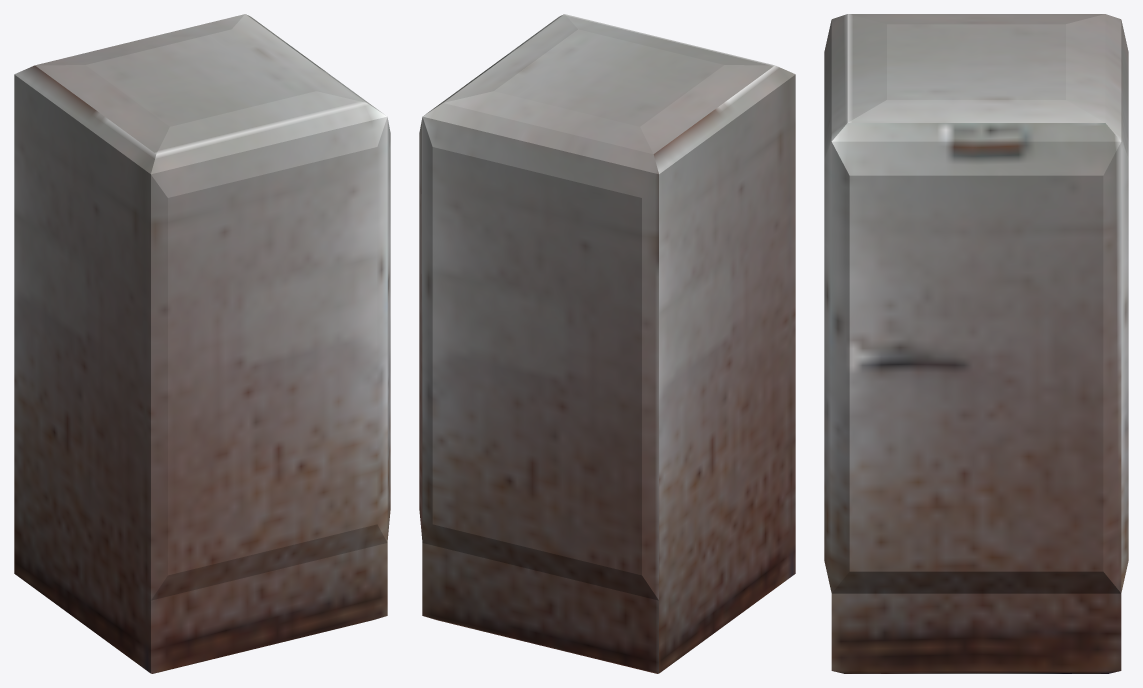
The model's file is fridge.fbx.
The picture shows the model from 3 angles, left to right: view 1: azimuth 30°, elevation 25°; view 2: azimuth 150°, elevation 25°; view 3: azimuth 270°, elevation 25°; orthographic projection. The views are drawn at different scales.
Parts seen in each view (by area): view 1: Cube; view 2: Cube; view 3: Cube.
Part boxes in pixels (bbox=[...]): Cube: bbox=[14, 14, 390, 673]; Cube: bbox=[419, 14, 795, 673]; Cube: bbox=[824, 14, 1128, 673].
Size of the model in its own units: 210 by 423 by 210.
